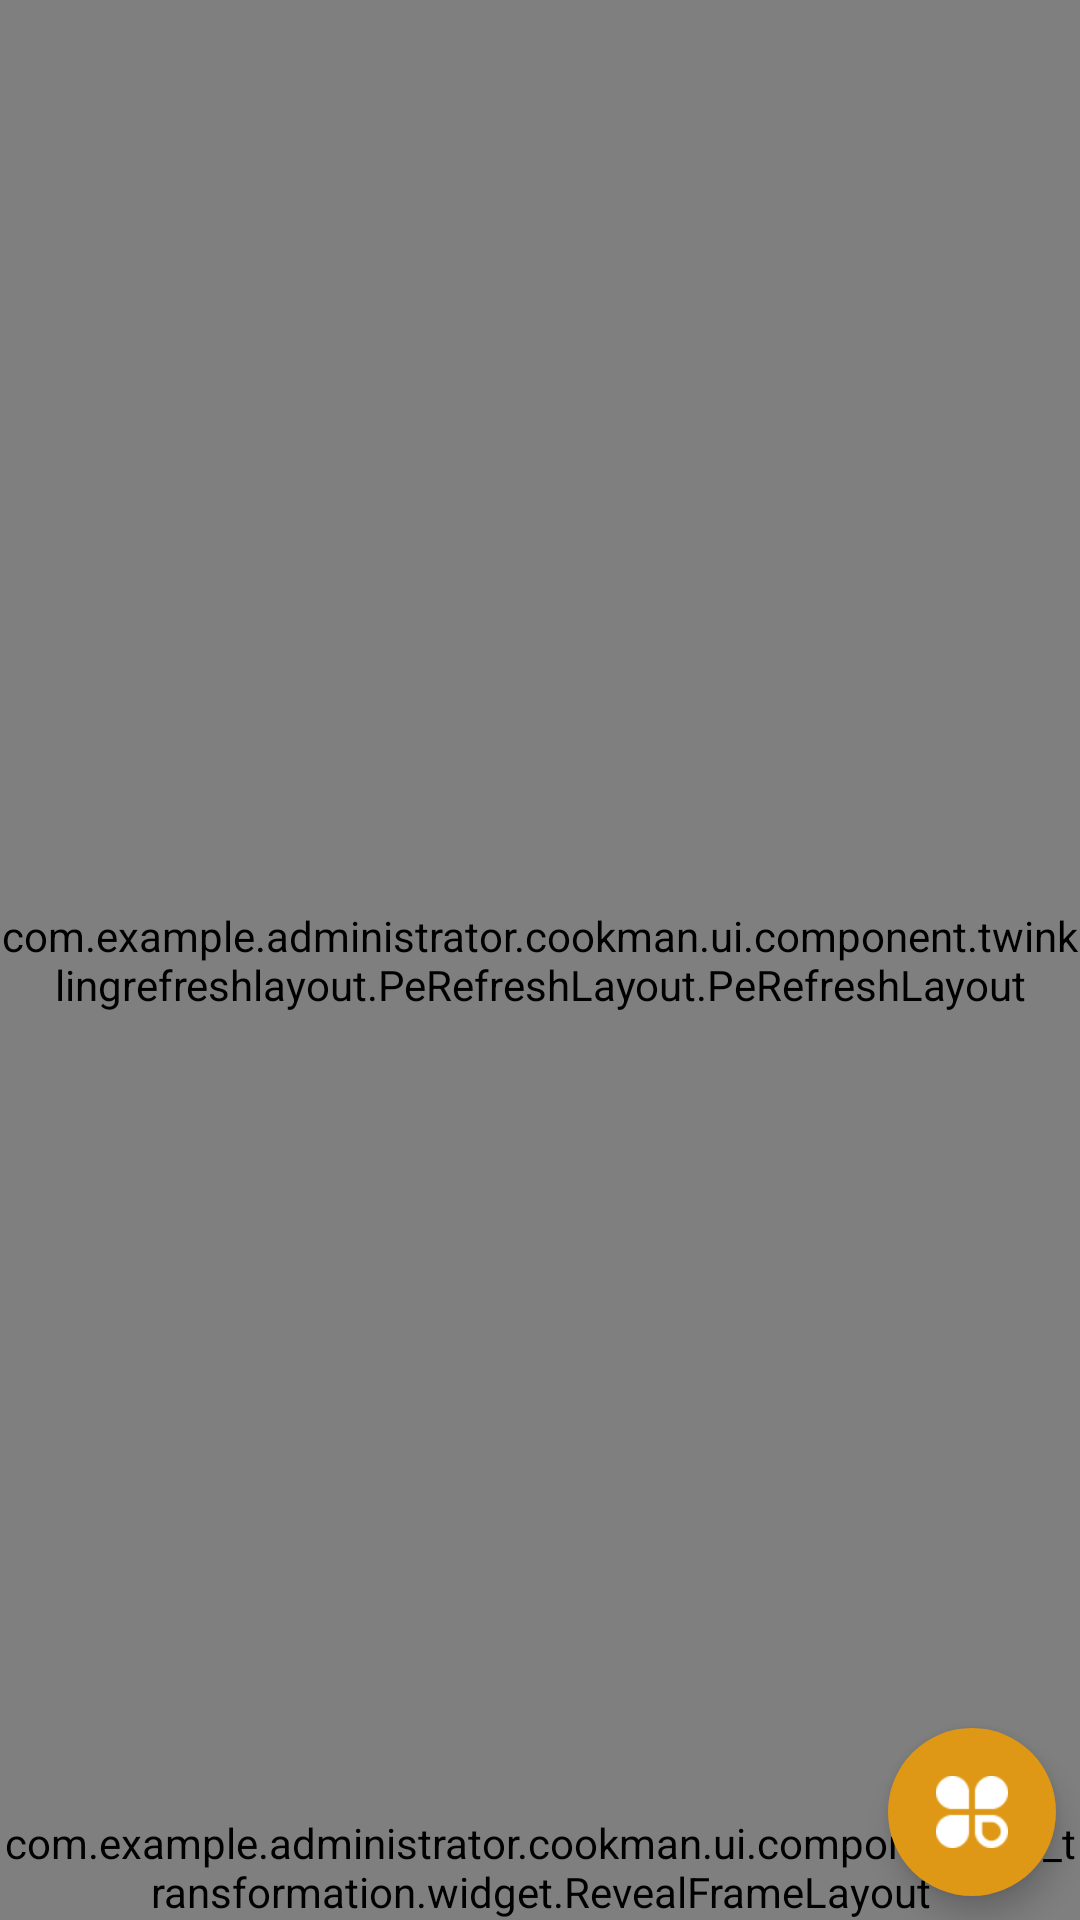

Screen size 1080 × 1920. Icon name, then its box in pixels as (x1, y1, x2, y2):
app: (888, 1728, 1056, 1896)
